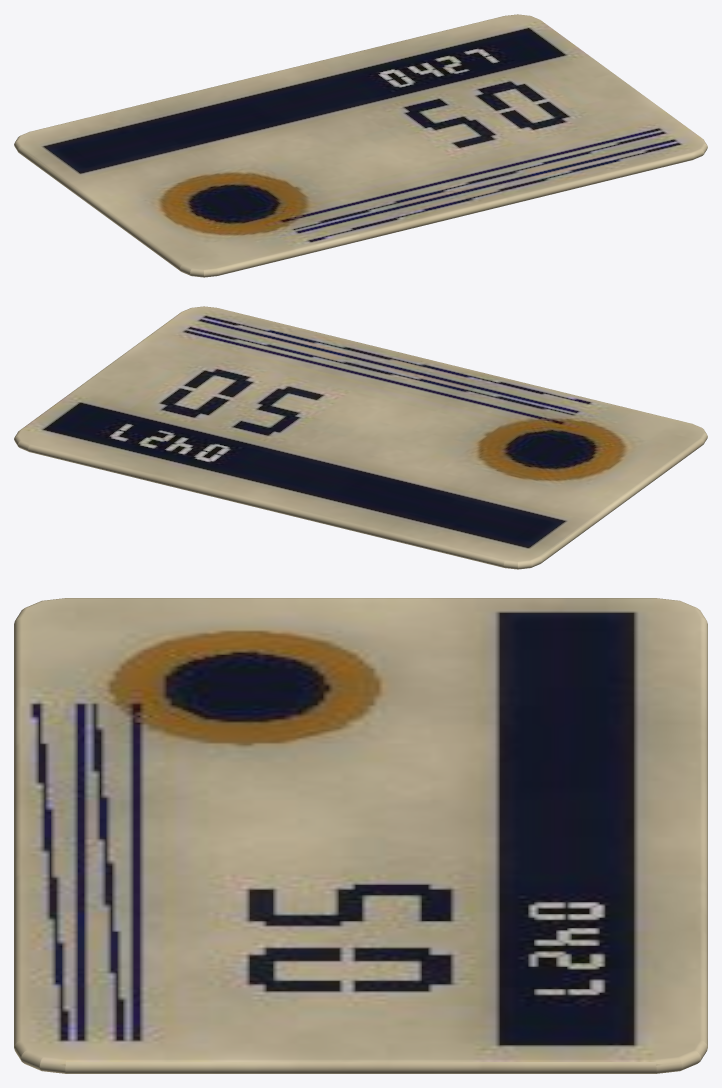
File: mark_chit.glb
3 renders of one model, top to bottom at view 1: azimuth 30°, elevation 25°; view 2: azimuth 150°, elevation 25°; view 3: azimuth 270°, elevation 25°, orthographic. The views are drawn at different scales.
Visible parts, largest first — view 1: mark_chit; view 2: mark_chit; view 3: mark_chit.
Boxes of the visible parts, x1,y1,x2,y2 form: mark_chit: (14, 14, 707, 277); mark_chit: (14, 306, 707, 569); mark_chit: (14, 598, 707, 1073).
Size of the model in its own units: 0.086 by 0.0012 by 0.054.
Materials: 1 (1 with a texture image).
